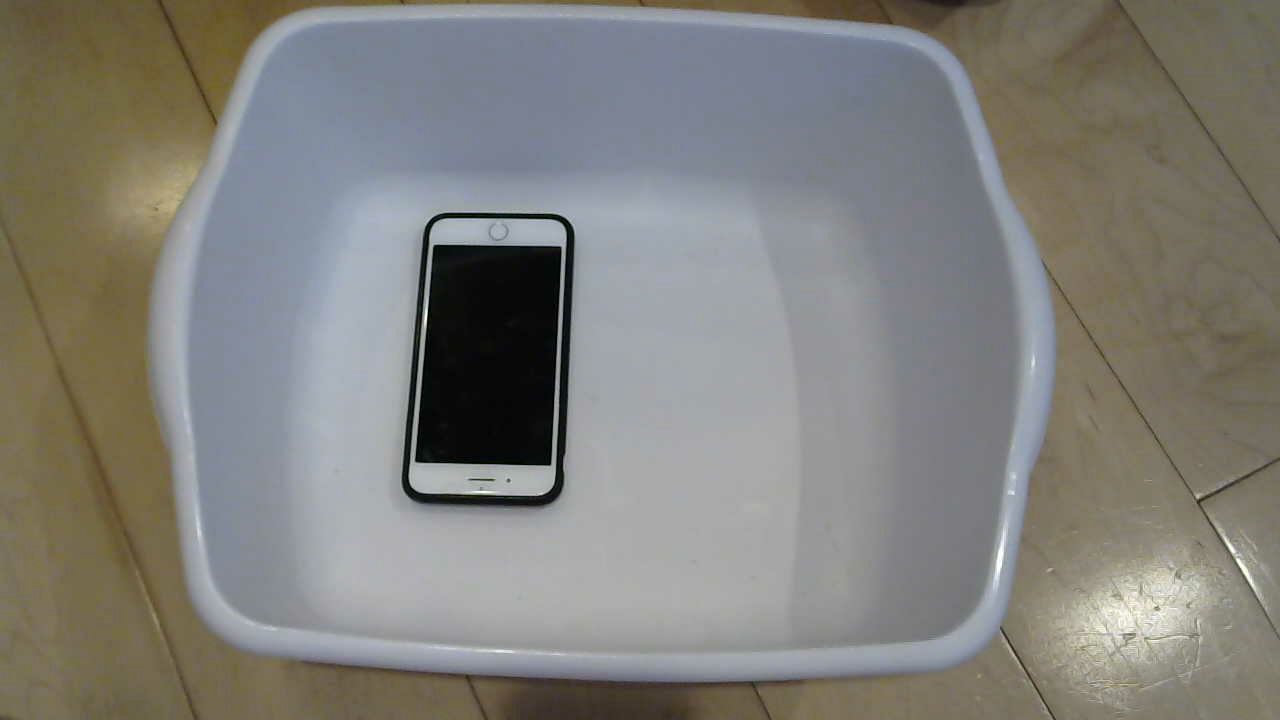phone: (403, 202, 588, 523)
